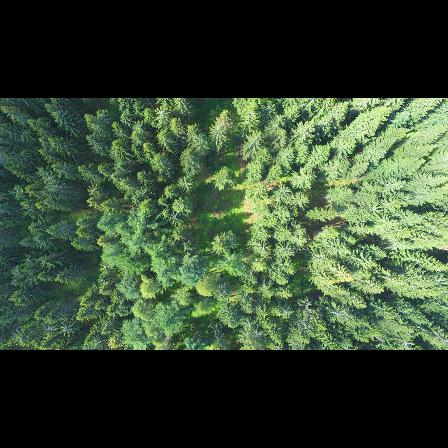Sick: (210, 119, 228, 137), (399, 337, 417, 350), (57, 324, 74, 337), (41, 172, 57, 185), (155, 107, 168, 121), (168, 214, 182, 226), (40, 326, 54, 336), (22, 255, 34, 266), (280, 308, 291, 320), (245, 319, 256, 329)
